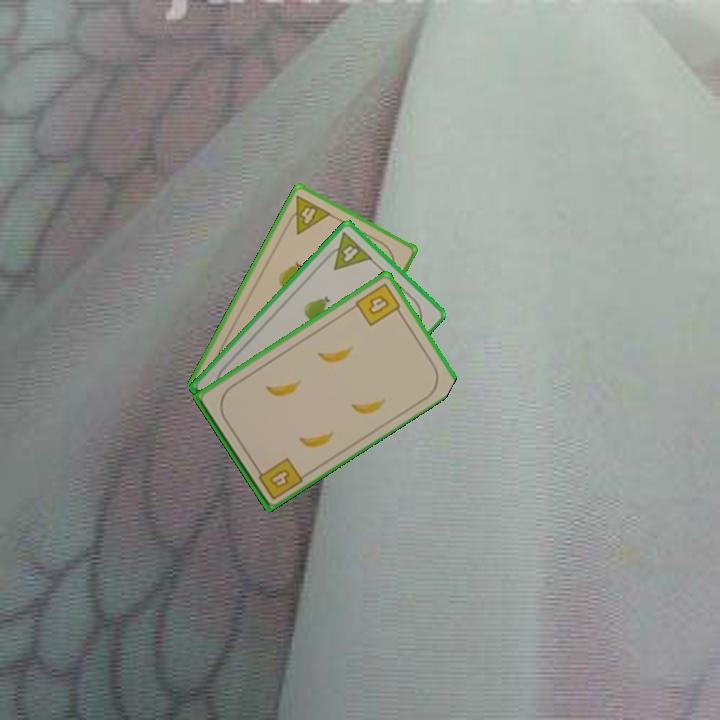4b: (351, 279, 405, 329), (251, 453, 305, 502)
4p: (320, 228, 375, 273), (281, 192, 334, 237)
